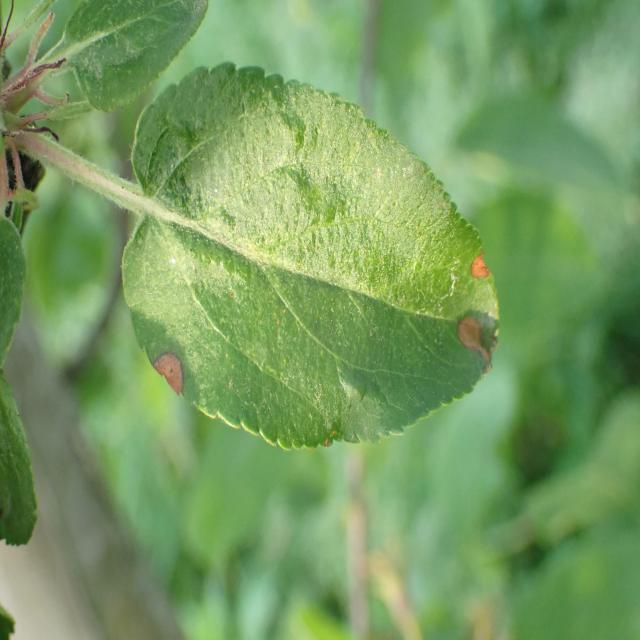frog-eye-leaf-spot: (120, 59, 501, 452)
